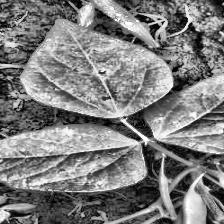ALS: (21, 16, 168, 108), (0, 122, 139, 193), (153, 69, 224, 156)
